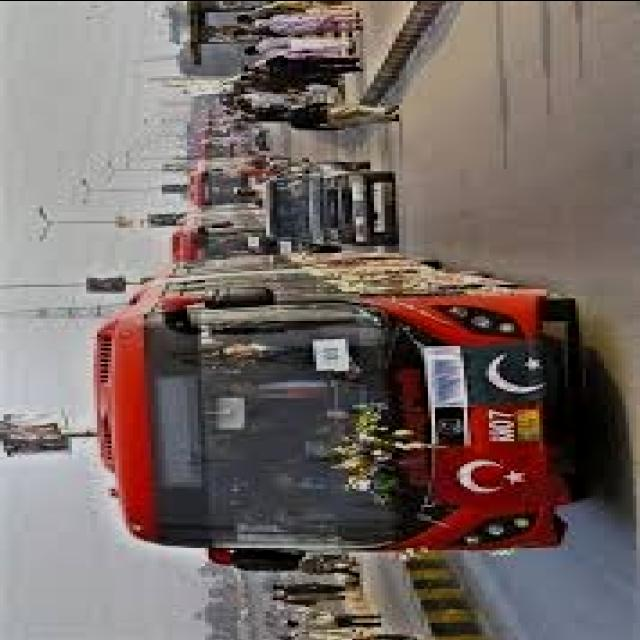bus: (66, 250, 580, 586), (145, 213, 281, 268), (171, 160, 267, 210)
